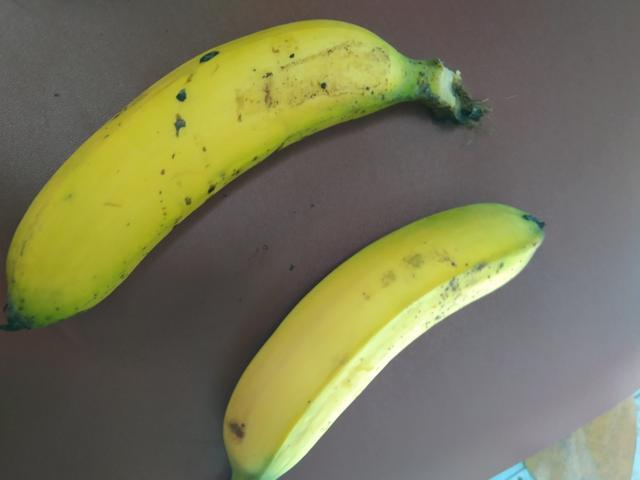freshripe: (210, 193, 573, 479)
ripe: (8, 16, 426, 323)
